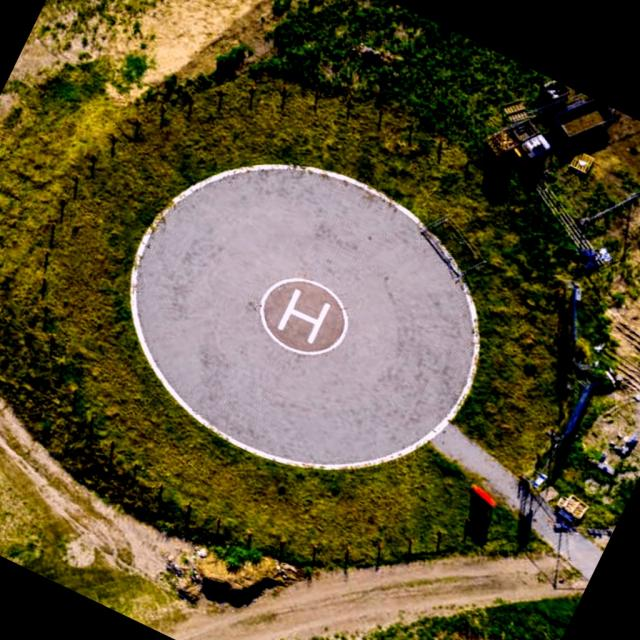helipad: (256, 274, 350, 356)
